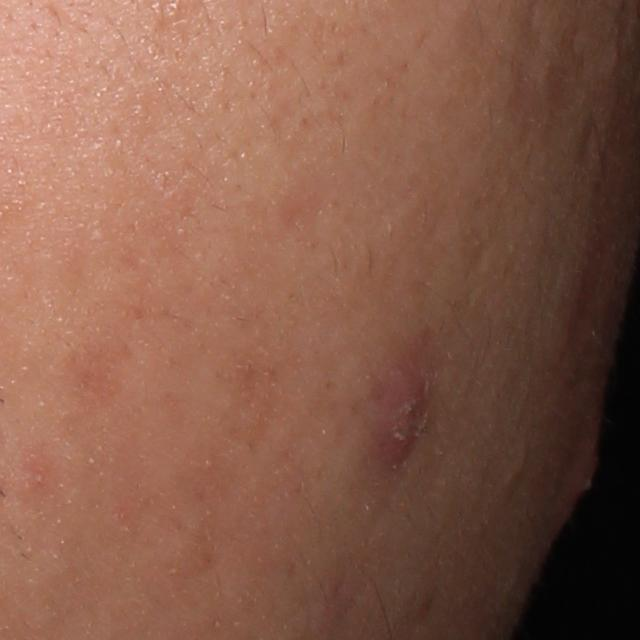atrophic_scar: (553, 15, 616, 129), (571, 110, 611, 188)
papule: (360, 353, 425, 479)
